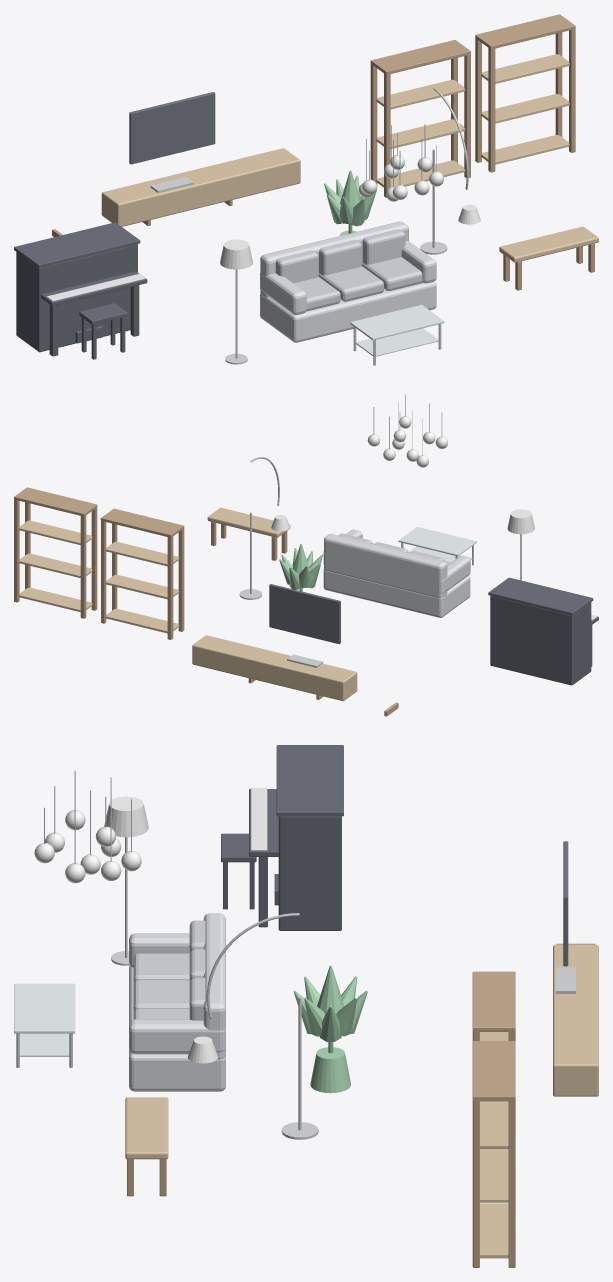
Rendered from agent_scene.glb.
3 views of the same model, one above another, from view 1: azimuth 30°, elevation 25°; view 2: azimuth 150°, elevation 25°; view 3: azimuth 270°, elevation 25° (orthographic). The views are drawn at different scales.
Visible parts, largest first — view 1: tv_console, piano_body, tv_screen, sofa_base, piano_lid, ctable_top, bench_top, shelfB_top, shelfA_top, sofa_back, sofa_seat1, sofa_seat2 (+27 smaller); view 2: piano_body, tv_console, sofa_back, tv_screen, sofa_base, piano_lid, ctable_top, shelfA_top, shelfB_top, bench_top, shelfA_shelf2, shelfB_shelf1 (+12 smaller); view 3: piano_body, tv_console, piano_lid, sofa_base, ctable_top, sofa_arm1, bench_top, shelfA_top, shelfB_top, sofa_back, sofa_seat1, shelfB_shelf0 (+16 smaller).
Part boxes in pixels (box(x1,y1,x2,y2)): tv_console: box(101, 148, 300, 226); piano_body: box(16, 244, 137, 352); tv_screen: box(129, 92, 215, 164); sofa_base: box(260, 281, 436, 342); piano_lid: box(14, 222, 140, 267); ctable_top: box(350, 304, 444, 340); bench_top: box(499, 226, 598, 262); shelfB_top: box(475, 14, 575, 49); shelfA_top: box(370, 40, 470, 74); sofa_back: box(260, 221, 408, 297); sofa_seat1: box(318, 266, 383, 301); sofa_seat2: box(362, 257, 423, 290); piano_body: box(490, 595, 591, 685); tv_console: box(192, 635, 357, 701); sofa_back: box(324, 534, 447, 597); tv_screen: box(269, 584, 340, 644); sofa_base: box(323, 569, 470, 617); piano_lid: box(488, 577, 593, 615); ctable_top: box(398, 527, 476, 556); shelfA_top: box(100, 508, 184, 537); shelfB_top: box(14, 488, 97, 516); bench_top: box(207, 507, 290, 537); shelfA_shelf2: box(105, 541, 179, 566); shelfB_shelf1: box(19, 553, 92, 577); piano_body: box(278, 816, 341, 930); tv_console: box(553, 944, 598, 1096); piano_lid: box(276, 745, 343, 816); sofa_base: box(129, 965, 225, 1091); ctable_top: box(14, 983, 75, 1033); sofa_arm1: box(129, 1019, 225, 1054); bench_top: box(125, 1097, 168, 1159); shelfA_top: box(472, 971, 515, 1031); shelfB_top: box(472, 1041, 515, 1101); sofa_back: box(203, 913, 225, 1059); sofa_seat1: box(133, 980, 189, 1012); shelfB_shelf0: box(480, 1203, 508, 1258).
Bounding box in the file's own units: 9.33 × 2.85 × 5.73.
